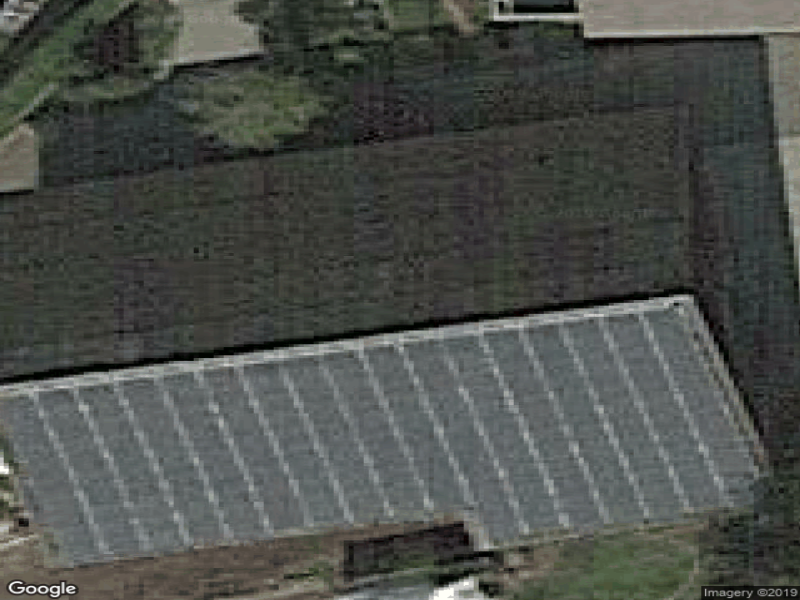pv: (3, 310, 765, 561)
